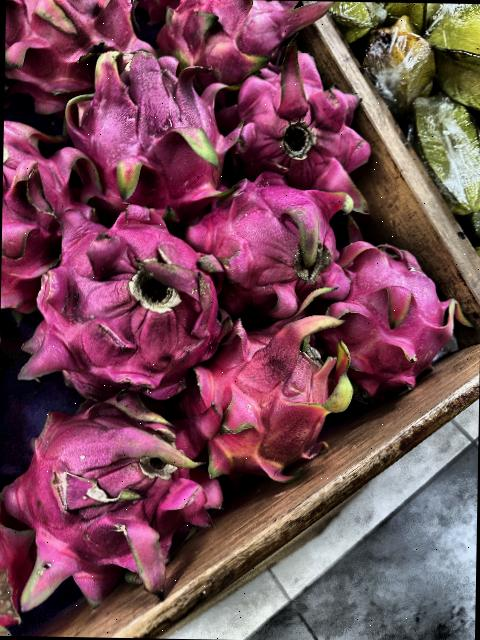buah-naga-matang: (22, 384, 208, 610), (40, 192, 216, 388), (73, 45, 234, 214), (211, 308, 348, 488), (223, 48, 372, 204), (206, 168, 356, 309), (339, 232, 460, 396), (1, 110, 91, 312), (4, 0, 144, 93), (160, 0, 323, 75)
